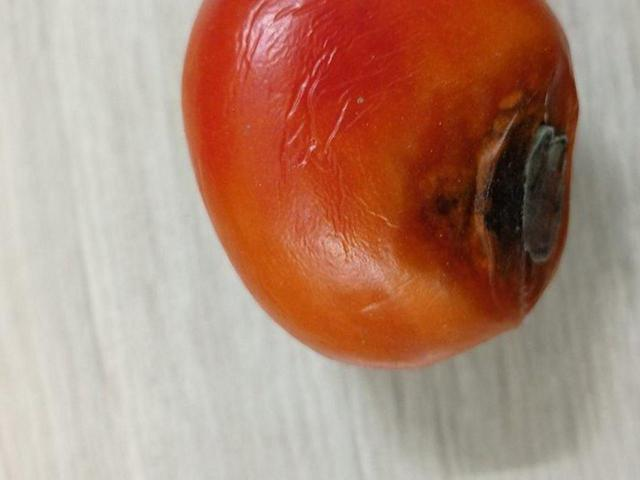defect: (181, 1, 584, 378)
